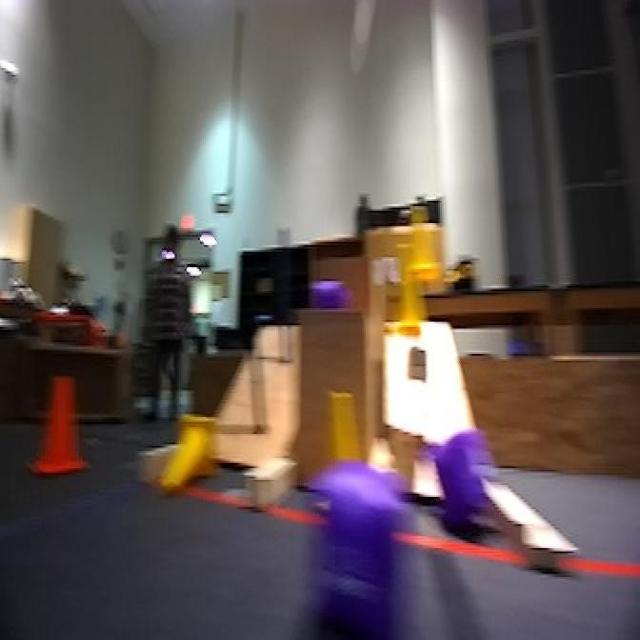frc_cone: (375, 226, 420, 344), (152, 415, 218, 494), (320, 386, 360, 488), (406, 201, 444, 289)
frc_cube: (318, 473, 412, 615), (433, 424, 501, 529), (299, 276, 351, 315)
